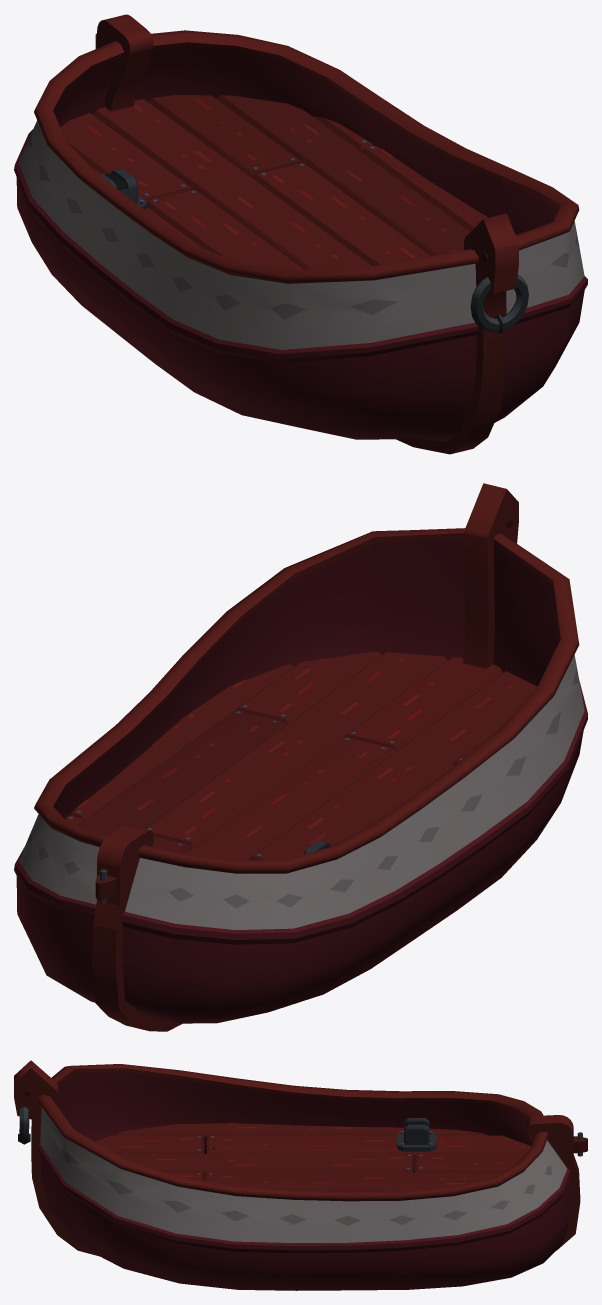
File: Boat.fbx
3 renders of one model, top to bottom at view 1: azimuth 30°, elevation 25°; view 2: azimuth 150°, elevation 25°; view 3: azimuth 270°, elevation 25°, orthographic. The views are drawn at different scales.
Visible parts, largest first — view 1: Boat; view 2: Boat; view 3: Boat.
Part boxes in pixels (x1,y1,x2,y2): Boat: (14,14,587,454); Boat: (14,483,587,1031); Boat: (14,1060,587,1290).
Size of the model in its own units: 204 by 164 by 401.
